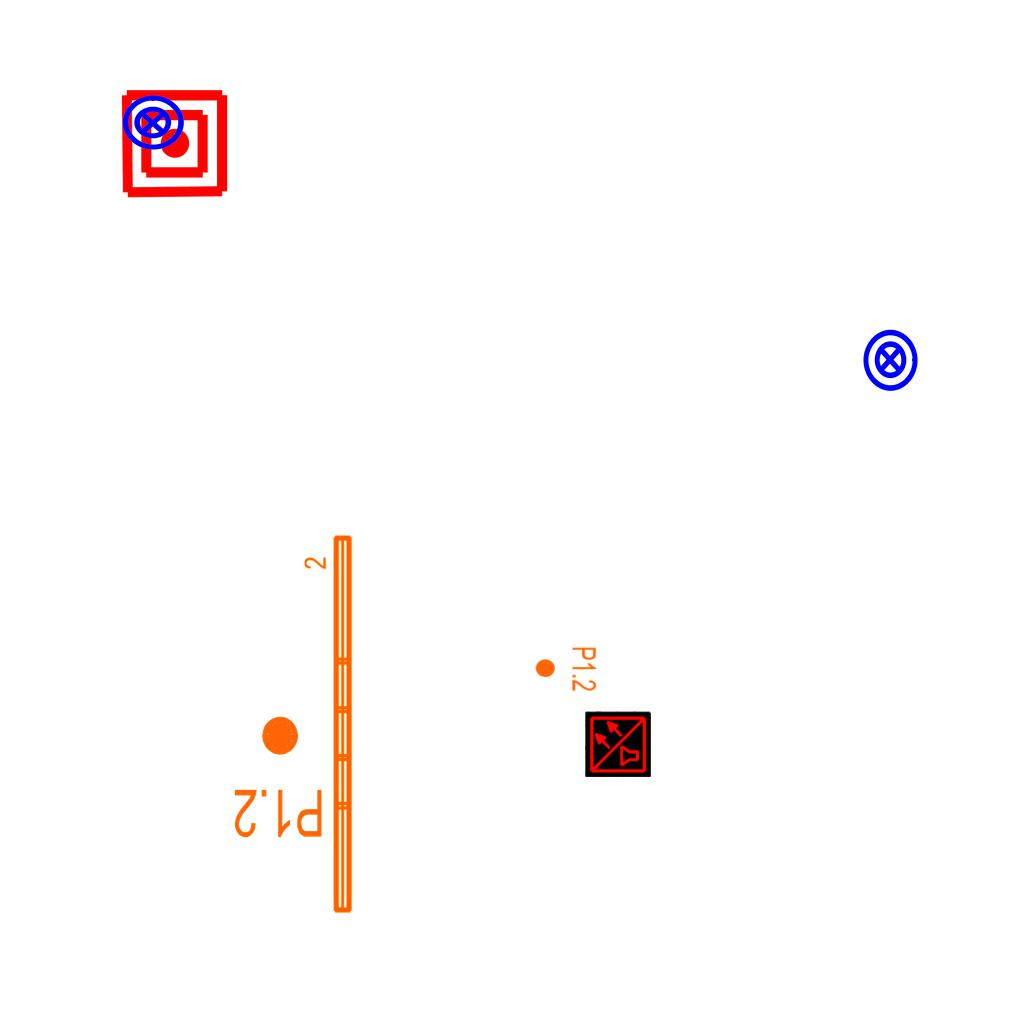Ambulanz_Pendelleuchte_LED: (302, 531, 358, 918)
Downlight_LED_Einbauleuchten_Flur: (232, 713, 325, 841), (534, 646, 598, 692)
NAM-Nichtautomatischer_Melder: (118, 87, 231, 200)
OKW_Multisensormelder_(Kombination_optischer_Rauch-Kahlenmonoxid_Waerme-Melder): (585, 711, 651, 777)
Taster_beleuchtet: (857, 327, 923, 393), (120, 90, 186, 156)
